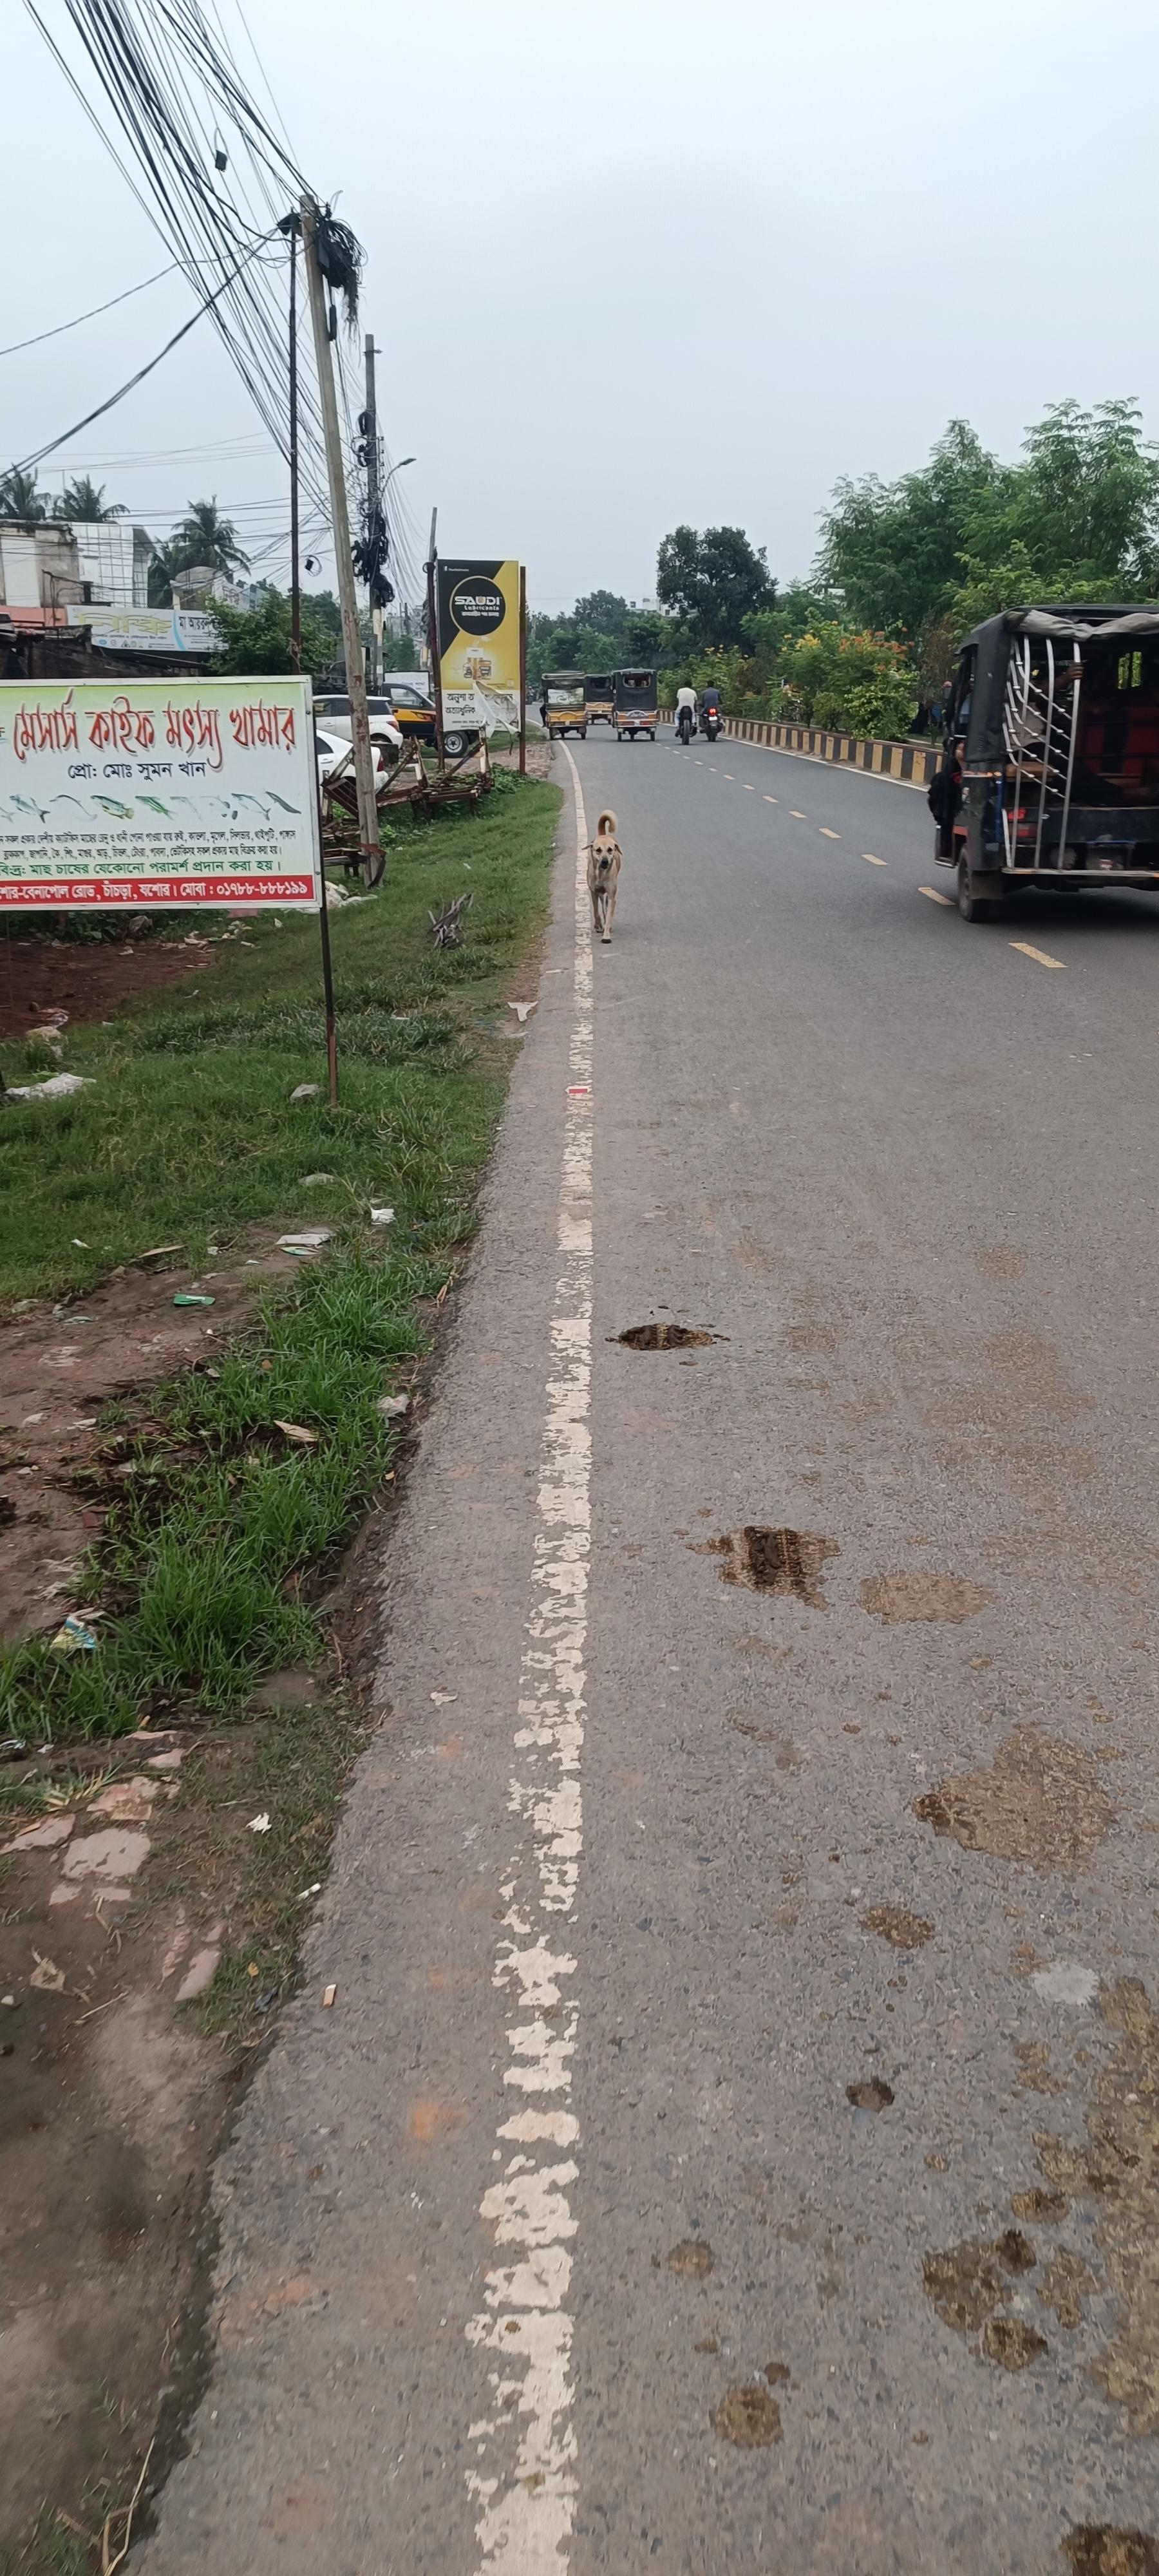Construction-barrier: (136, 1063, 515, 2517)
Garbage: (7, 670, 348, 966), (387, 534, 555, 766)
Garbage-bin: (929, 736, 967, 867), (588, 812, 624, 941), (676, 680, 698, 743), (701, 682, 722, 741)
Traffic-cone: (934, 573, 1159, 984)
